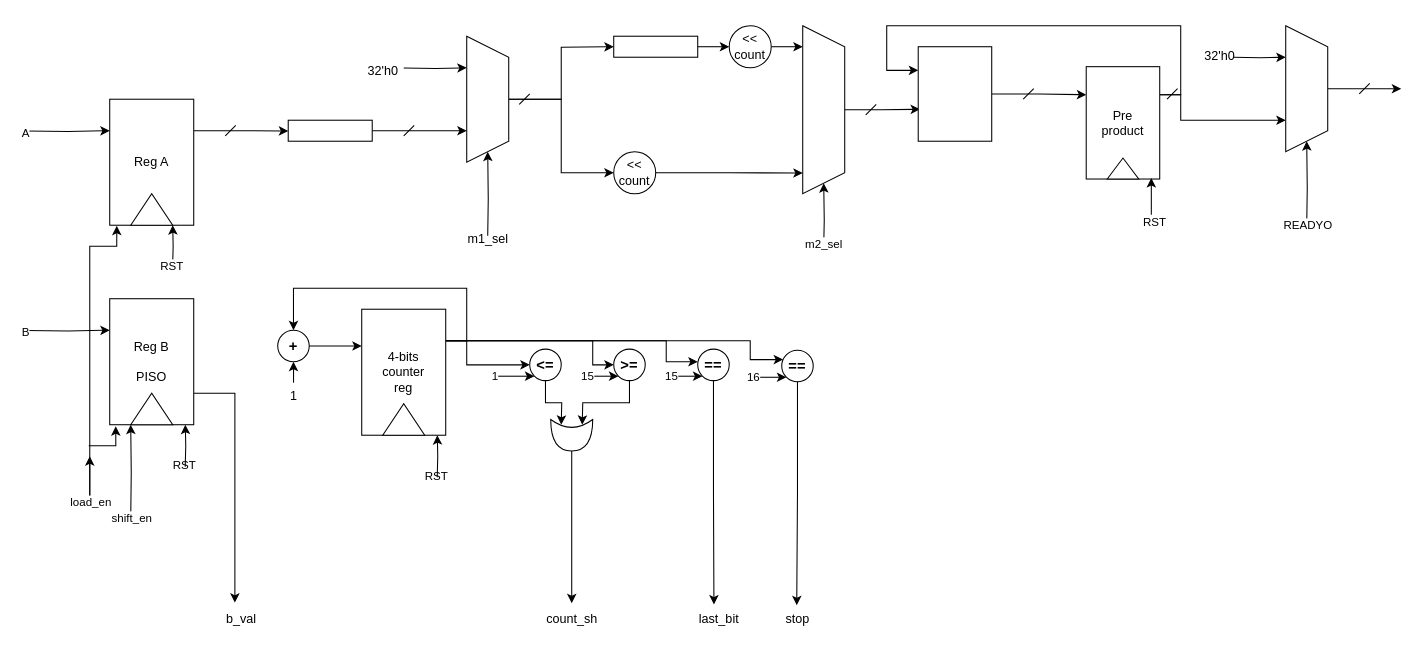
This 1428x653 diagram has some shape labels left out. The centre of each missing label's shape, as x and y in pixels:
"2 complement" belongs at [655,46].
"32-bits Ripple carry Adder" belongs at [954,93].
"sign extension" belongs at [329,130].
